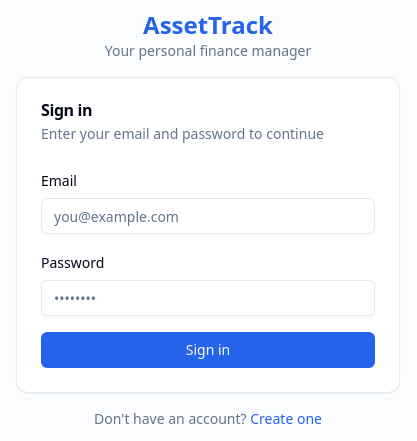
Test: Login page › submit button is disabled while request is in-flight
The image size is (417, 441).
Type "rahul@example.com" into the field labelled "Email". click: [208, 216]
box: [41,198,375,234]
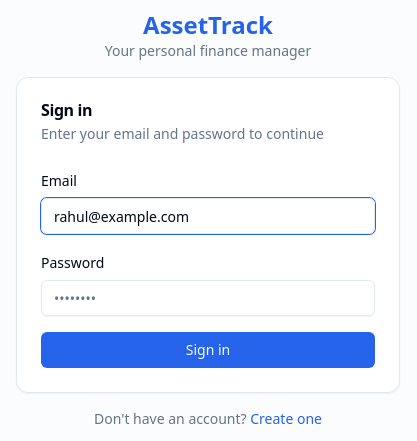
Type "validPass1" into the password field labelled "Password". click: [208, 298]
box: [41,280,375,316]
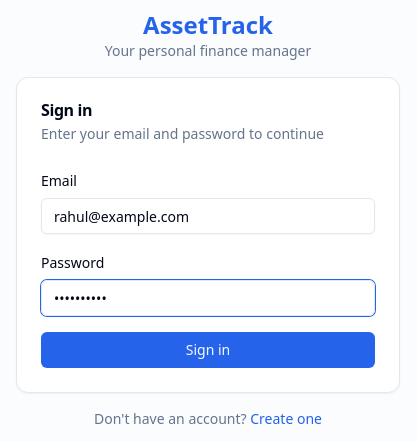
Click the button "Sign in". click: [208, 350]
box: [41,332,375,368]
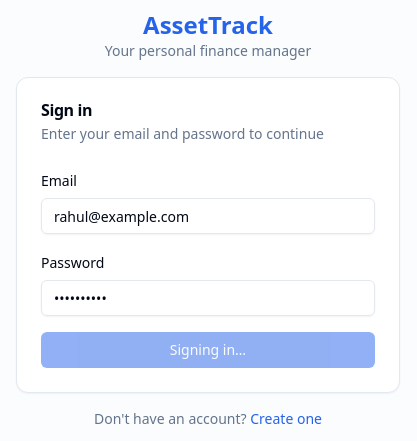
Result: the button "Signing in…" is disabled at [41,332,375,368]
